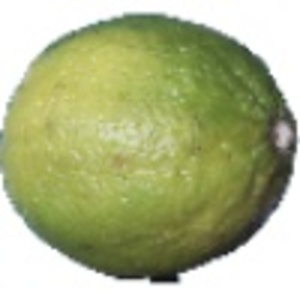limão: (1, 12, 300, 285)
